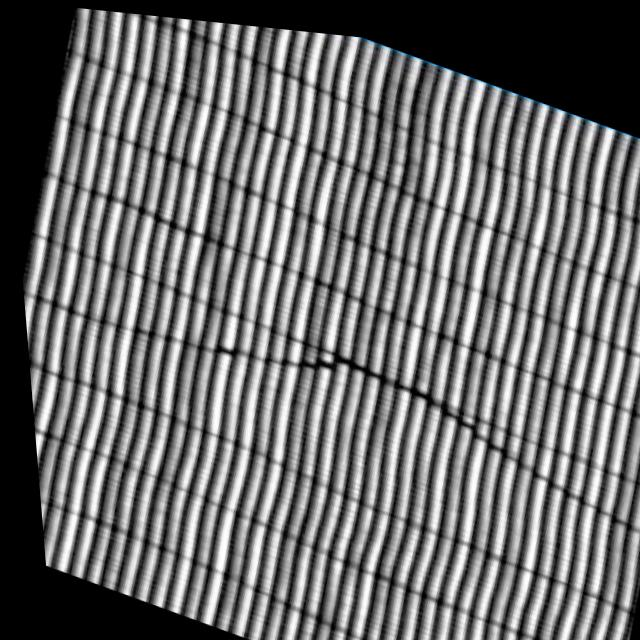Stitch: (141, 272, 610, 528)
